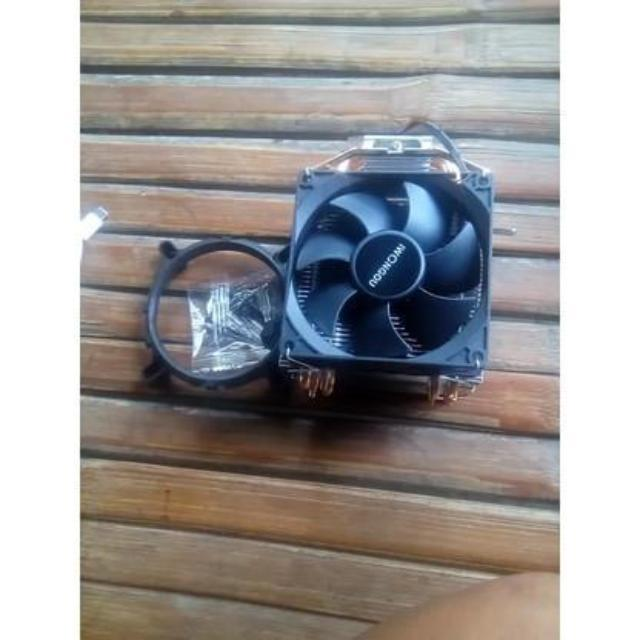CPU_Fan: (282, 133, 488, 399)
